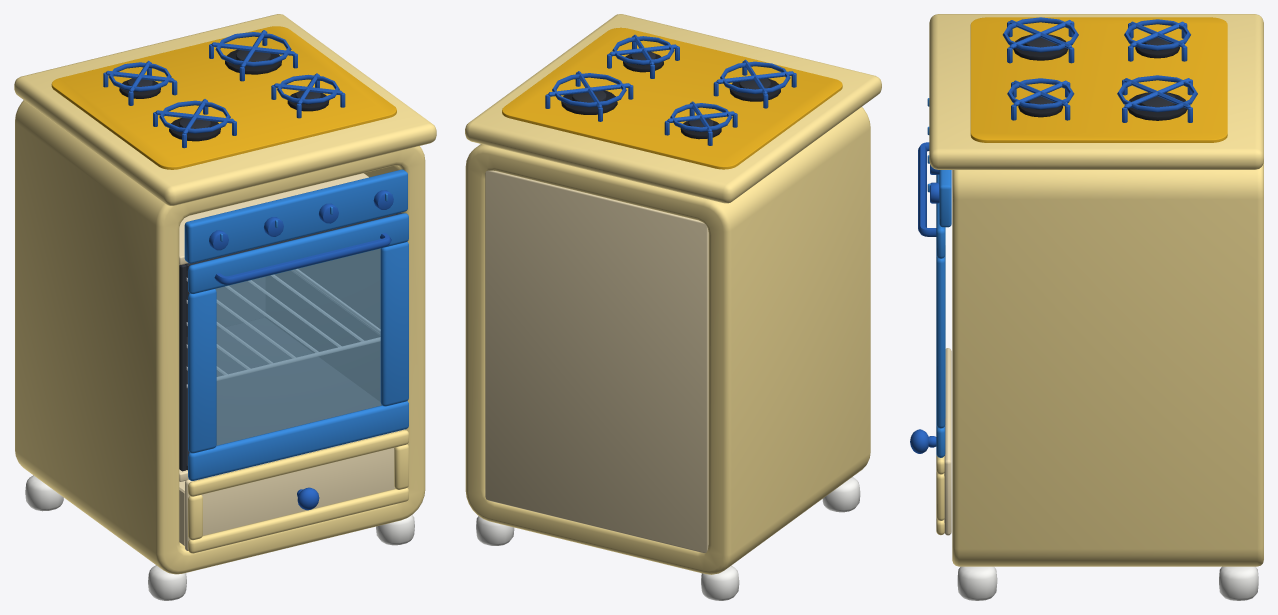
The model's file is fogao_modulo_campestre_azul.glb.
3 views of the same model, side by side, from view 1: azimuth 30°, elevation 25°; view 2: azimuth 150°, elevation 25°; view 3: azimuth 270°, elevation 25° (orthographic). The views are drawn at different scales.
Visible parts, largest first — view 1: fogao_modulo_campestre_azul, porta_forno, gaveta_1; view 2: fogao_modulo_campestre_azul; view 3: fogao_modulo_campestre_azul, porta_forno, gaveta_1.
Part boxes in pixels (<box>): fogao_modulo_campestre_azul: <box>14,14,436,600</box>; porta_forno: <box>188,213,408,480</box>; gaveta_1: <box>179,429,408,553</box>; fogao_modulo_campestre_azul: <box>465,14,881,600</box>; fogao_modulo_campestre_azul: <box>927,14,1263,600</box>; porta_forno: <box>918,142,945,457</box>; gaveta_1: <box>910,348,951,535</box>.
Size of the model in its own units: 0.598 by 0.939 by 0.6336.
2 materials, 1 textured.
